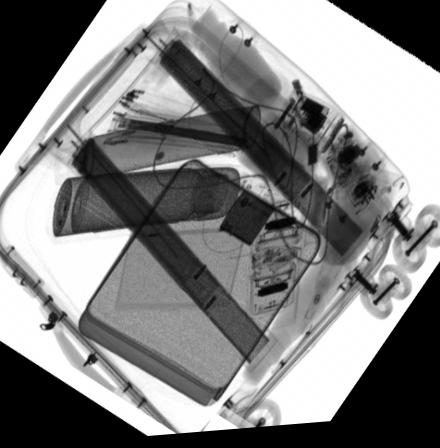Lighter: (218, 192, 274, 249)
Sprayer: (52, 108, 259, 184)
